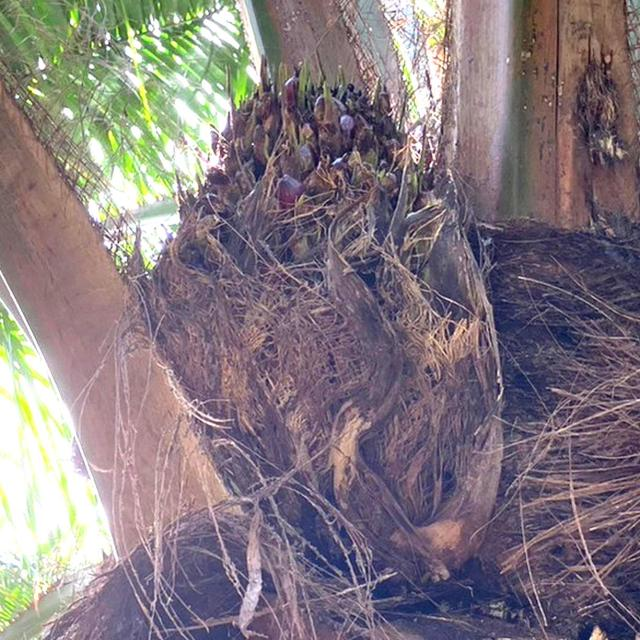unripe: (162, 66, 473, 448)
